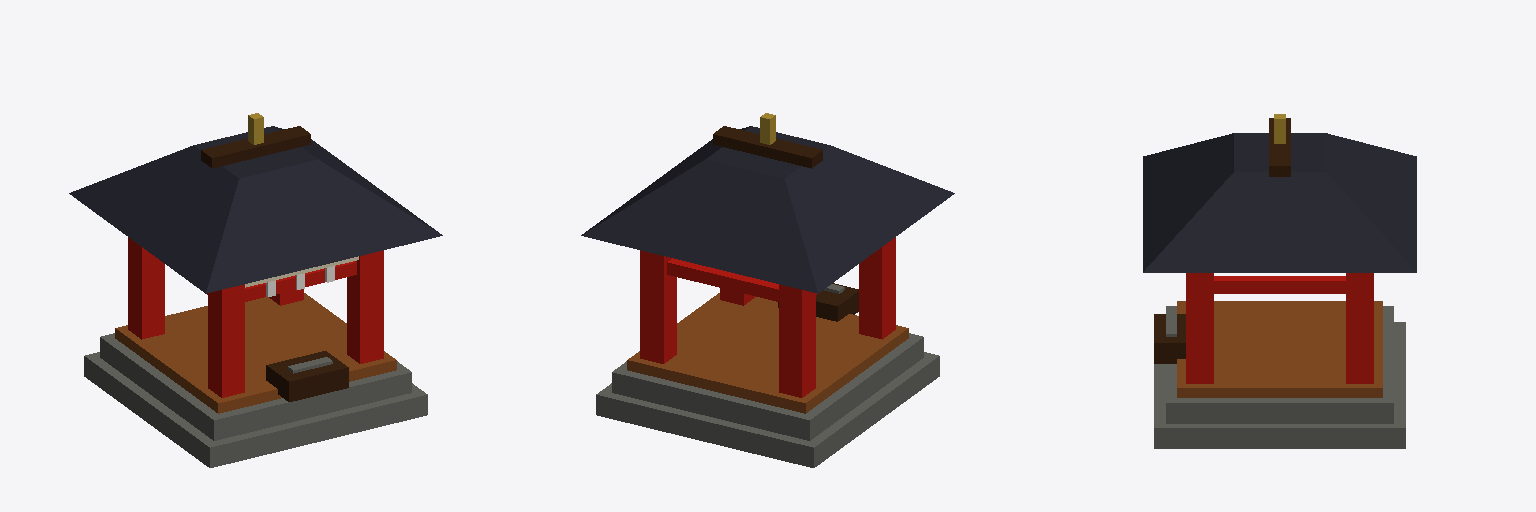
The model's file is basic_t1.obj.
3 views of the same model, side by side, from view 1: azimuth 30°, elevation 25°; view 2: azimuth 150°, elevation 25°; view 3: azimuth 270°, elevation 25° (orthographic).
Size of the model in its own units: 24 by 27 by 24.